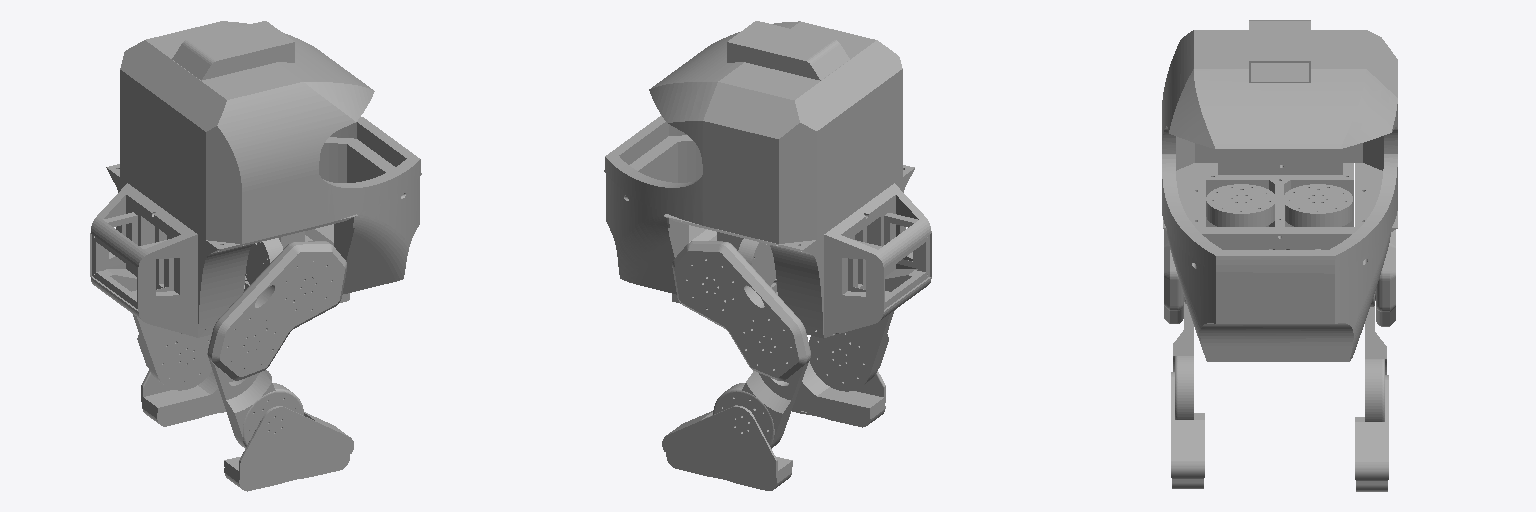
URDF robot description (bdx):
<?xml version="1.0" ?>
<robot name="bdx">
  <material name="silver">
    <color rgba="0.700 0.700 0.700 1.000"/>
  </material>
  <link name="trunk">
    <inertial>
      <origin xyz="0 0 0" rpy="0 0 0" />
      <mass value="1e-9" />
      <inertia ixx="0" ixy="0" ixz="0" iyy="0" iyz="0" izz="0" />
    </inertial>
  </link>
  <joint name="trunk_frame" type="fixed">
    <origin xyz="-0.035 0 0.26943" rpy="0 0 0" />
    <parent link="pelvis" />
    <child link="trunk" />
    <axis xyz="0 0 0"/>
  </joint>
  <link name="imu_link">
    <inertial>
      <origin xyz="0 0 0" rpy="0 0 0"/>
      <mass value="0.001"/>
      <inertia ixx="0.0001" ixy="0" ixz="0" iyy="0.0001" iyz="0" izz="0.0001"/>
    </inertial>
    <visual>
      <origin xyz="0 0 0" rpy="0 0 0"/>
      <geometry>
        <box size="0.01 0.01 0.01"/>
      </geometry>
      <material name="silver"/>
    </visual>
  </link>
  <joint name="imu_joint" type="fixed">
    <parent link="trunk"/>
    <child link="imu_link"/>
    <origin xyz="0 0 0" rpy="0 0 0"/>
  </joint>
  <joint name="left_hip_yaw" type="revolute">
    <origin rpy="0 0 0" xyz="-0.033111 0.046658 0.363959"/>
    <parent link="pelvis"/>
    <child link="left_hip_rotation"/>
    <axis xyz="-0.0 0.0 -1.0"/>
    <limit lower="-0.7853982" upper="0.7853982" effort="23.7" velocity="30"/>
  </joint>
  <joint name="left_hip_roll" type="revolute">
    <origin rpy="0 0 0" xyz="-0.0073 0.00275 -0.076"/>
    <parent link="left_hip_rotation"/>
    <child link="left_hip"/>
    <axis xyz="1.0 -0.0 -0.0"/>
    <limit lower="-0.7853982" upper="0.7853982" effort="23.7" velocity="30"/>
  </joint>
  <joint name="left_hip_pitch" type="revolute">
    <origin rpy="0 0 0" xyz="0.017466 0.069601 0.000785"/>
    <parent link="left_hip"/>
    <child link="left_thigh"/>
    <axis xyz="0.0 1.0 0.0"/>
    <limit lower="-0.7853982" upper="0.7853982" effort="23.7" velocity="30"/>
  </joint>
  <joint name="left_knee" type="revolute">
    <origin rpy="0 0 0" xyz="-0.079306 0.0 -0.077708"/>
    <parent link="left_thigh"/>
    <child link="left_shin"/>
    <axis xyz="-0.0 -1.0 0.0"/>
    <limit lower="-0.7853982" upper="0.7853982" effort="23.7" velocity="30"/>
  </joint>
  <joint name="left_ankle" type="revolute">
    <origin rpy="0 0 0" xyz="0.045 -0.0152 -0.13"/>
    <parent link="left_shin"/>
    <child link="left_foot_link"/>
    <axis xyz="0.0 1.0 -0.0"/>
    <limit lower="-0.7853982" upper="0.7853982" effort="23.7" velocity="30"/>
  </joint>
  <joint name="right_hip_yaw" type="revolute">
    <origin rpy="0 0 0" xyz="-0.033111 -0.046658 0.363959"/>
    <parent link="pelvis"/>
    <child link="right_hip_rotation"/>
    <axis xyz="-0.0 -0.0 -1.0"/>
    <limit lower="-0.7853982" upper="0.7853982" effort="23.7" velocity="30"/>
  </joint>
  <joint name="right_hip_roll" type="revolute">
    <origin rpy="0 0 0" xyz="-0.0073 -0.00275 -0.076"/>
    <parent link="right_hip_rotation"/>
    <child link="right_hip"/>
    <axis xyz="1.0 -0.0 -0.0"/>
    <limit lower="-0.7853982" upper="0.7853982" effort="23.7" velocity="30"/>
  </joint>
  <joint name="right_hip_pitch" type="revolute">
    <origin rpy="0 0 0" xyz="0.017466 -0.069601 0.000785"/>
    <parent link="right_hip"/>
    <child link="right_thigh"/>
    <axis xyz="-0.0 -1.0 0.0"/>
    <limit lower="-0.7853982" upper="0.7853982" effort="23.7" velocity="30"/>
  </joint>
  <joint name="right_knee" type="revolute">
    <origin rpy="0 0 0" xyz="-0.079306 0.0 -0.077708"/>
    <parent link="right_thigh"/>
    <child link="right_shin"/>
    <axis xyz="0.0 1.0 -0.0"/>
    <limit lower="-0.7853982" upper="0.7853982" effort="23.7" velocity="30"/>
  </joint>
  <joint name="right_ankle" type="revolute">
    <origin rpy="0 0 0" xyz="0.045 0.0152 -0.13"/>
    <parent link="right_shin"/>
    <child link="right_foot_link"/>
    <axis xyz="-0.0 -1.0 0.0"/>
    <limit lower="-0.7853982" upper="0.7853982" effort="23.7" velocity="30"/>
  </joint>
  <link name="pelvis">
    <inertial>
      <origin rpy="0 0 0" xyz="-0.053755951684186565 0.0011833805784402802 0.3419474505132109"/>
      <mass value="5.713"/>
      <inertia ixx="0.201691" ixy="-0.002118" ixz="0.016433" iyy="0.431684" iyz="-0.001502" izz="0.371809"/>
    </inertial>
    <visual>
      <origin rpy="0 0 0" xyz="0 0 0"/>
      <geometry>
        <mesh filename="meshes/pelvis.stl" scale="0.001 0.001 0.001"/>
      </geometry>
      <material name="silver"/>
    </visual>
    <collision>
      <origin rpy="0 0 0" xyz="0 0 0"/>
      <geometry>
        <mesh filename="meshes/pelvis.stl" scale="0.001 0.001 0.001"/>
      </geometry>
    </collision>
  </link>
  <link name="left_foot">
    <inertial>
      <origin xyz="0 0 0" rpy="0 0 0" />
      <mass value="1e-9" />
      <inertia ixx="0" ixy="0" ixz="0" iyy="0" iyz="0" izz="0" />
    </inertial>
  </link>
  <joint name="left_foot_frame" type="fixed">
      <origin xyz="0.025 0.0 -0.0785" rpy="0 0 0" />
      <parent link="left_foot_link" />
      <child link="left_foot" />
      <axis xyz="0 0 0"/>
  </joint>
  <link name="left_foot_link">
    <inertial>
      <origin rpy="0 0 0" xyz="0.03176454302608206 0.007933373772940469 -0.042151517495486915"/>
      <mass value="0.678"/>
      <inertia ixx="0.003343" ixy="0.000338" ixz="0.000572" iyy="0.010216" iyz="-0.000559" izz="0.008414"/>
    </inertial>
    <visual>
      <origin rpy="0 0 0" xyz="0.057251 -0.103809 -0.081036"/>
      <geometry>
        <mesh filename="meshes/left_foot.stl" scale="0.001 0.001 0.001"/>
      </geometry>
      <material name="silver"/>
    </visual>
    <collision>
      <origin rpy="0 0 0" xyz="0.057251 -0.103809 -0.081036"/>
      <geometry>
        <mesh filename="meshes/left_foot.stl" scale="0.001 0.001 0.001"/>
      </geometry>
    </collision>
  </link>
  <link name="left_foot_force_sensor">
    <inertial>
      <origin xyz="0 0 0" rpy="0 0 0"/>
      <mass value="0.001"/>
      <inertia ixx="0.0001" ixy="0" ixz="0" iyy="0.0001" iyz="0" izz="0.0001"/>
    </inertial>
    <visual>
      <origin xyz="0 0 0" rpy="0 0 0"/>
      <geometry>
        <box size="0.01 0.01 0.001"/>
      </geometry>
      <material name="silver"/>
    </visual>
  </link>
  <joint name="left_foot_force_sensor_joint" type="fixed">
    <parent link="left_foot"/>
    <child link="left_foot_force_sensor"/>
    <origin xyz="0 0 -0.001" rpy="0 0 0"/>
  </joint>
  <link name="left_shin">
    <inertial>
      <origin rpy="0 0 0" xyz="0.022294583259108075 -0.014936697575107835 -0.09005879619606566"/>
      <mass value="0.633"/>
      <inertia ixx="0.008877" ixy="0.000288" ixz="0.002995" iyy="0.011732" iyz="-0.000503" izz="0.003534"/>
    </inertial>
    <visual>
      <origin rpy="0 0 0" xyz="0.102251 -0.119009 -0.211036"/>
      <geometry>
        <mesh filename="meshes/left_shin.stl" scale="0.001 0.001 0.001"/>
      </geometry>
      <material name="silver"/>
    </visual>
    <collision>
      <origin rpy="0 0 0" xyz="0.102251 -0.119009 -0.211036"/>
      <geometry>
        <mesh filename="meshes/left_shin.stl" scale="0.001 0.001 0.001"/>
      </geometry>
    </collision>
  </link>
  <link name="left_thigh">
    <inertial>
      <origin rpy="0 0 0" xyz="-0.03410869713640875 0.02677272953598611 -0.034446694656980914"/>
      <mass value="0.633"/>
      <inertia ixx="0.024423" ixy="-0.000254" ixz="-0.014456" iyy="0.047342" iyz="-2.5e-05" izz="0.029001"/>
    </inertial>
    <visual>
      <origin rpy="0 0 0" xyz="0.022945 -0.119009 -0.288744"/>
      <geometry>
        <mesh filename="meshes/left_thigh.stl" scale="0.001 0.001 0.001"/>
      </geometry>
      <material name="silver"/>
    </visual>
    <collision>
      <origin rpy="0 0 0" xyz="0.022945 -0.119009 -0.288744"/>
      <geometry>
        <mesh filename="meshes/left_thigh.stl" scale="0.001 0.001 0.001"/>
      </geometry>
    </collision>
  </link>
  <link name="left_hip">
    <inertial>
      <origin rpy="0 0 0" xyz="0.01891117648514914 0.023471260644046747 0.00036212347671088496"/>
      <mass value="0.633"/>
      <inertia ixx="0.001496" ixy="-4.5e-05" ixz="-4e-06" iyy="0.000508" iyz="-4e-06" izz="0.001368"/>
    </inertial>
    <visual>
      <origin rpy="0 0 0" xyz="0.040411 -0.049408 -0.287959"/>
      <geometry>
        <mesh filename="meshes/left_hip.stl" scale="0.001 0.001 0.001"/>
      </geometry>
      <material name="silver"/>
    </visual>
    <collision>
      <origin rpy="0 0 0" xyz="0.040411 -0.049408 -0.287959"/>
      <geometry>
        <mesh filename="meshes/left_hip.stl" scale="0.001 0.001 0.001"/>
      </geometry>
    </collision>
  </link>
  <link name="left_hip_rotation">
    <inertial>
      <origin rpy="0 0 0" xyz="-0.0050839710984315195 0.0030924159298773846 -0.0631042772217113"/>
      <mass value="0.633"/>
      <inertia ixx="0.005331" ixy="8e-06" ixz="-0.000134" iyy="0.004179" iyz="9.4e-05" izz="0.001979"/>
    </inertial>
    <visual>
      <origin rpy="0 0 0" xyz="0.033111 -0.046658 -0.363959"/>
      <geometry>
        <mesh filename="meshes/left_hip_rotation.stl" scale="0.001 0.001 0.001"/>
      </geometry>
      <material name="silver"/>
    </visual>
    <collision>
      <origin rpy="0 0 0" xyz="0.033111 -0.046658 -0.363959"/>
      <geometry>
        <mesh filename="meshes/left_hip_rotation.stl" scale="0.001 0.001 0.001"/>
      </geometry>
    </collision>
  </link>
  <link name="right_foot">
    <inertial>
      <origin xyz="0 0 0" rpy="0 0 0" />
      <mass value="1e-9" />
      <inertia ixx="0" ixy="0" ixz="0" iyy="0" iyz="0" izz="0" />
    </inertial>
  </link>
  <joint name="right_foot_frame" type="fixed">
      <origin xyz="0.025 0.0 -0.0785" rpy="0 0 0" />
      <parent link="right_foot_link" />
      <child link="right_foot" />
      <axis xyz="0 0 0"/>
  </joint>
  <link name="right_foot_link">
    <inertial>
      <origin rpy="0 0 0" xyz="0.03176454302608035 -0.00793337377294008 -0.042151517495486845"/>
      <mass value="0.678"/>
      <inertia ixx="0.003343" ixy="-0.000338" ixz="0.000572" iyy="0.010216" iyz="0.000559" izz="0.008414"/>
    </inertial>
    <visual>
      <origin rpy="0 0 0" xyz="0.057251 0.103809 -0.081036"/>
      <geometry>
        <mesh filename="meshes/right_foot.stl" scale="0.001 0.001 0.001"/>
      </geometry>
      <material name="silver"/>
    </visual>
    <collision>
      <origin rpy="0 0 0" xyz="0.057251 0.103809 -0.081036"/>
      <geometry>
        <mesh filename="meshes/right_foot.stl" scale="0.001 0.001 0.001"/>
      </geometry>
    </collision>
  </link>
  <link name="right_foot_force_sensor">
    <inertial>
      <origin xyz="0 0 0" rpy="0 0 0"/>
      <mass value="0.001"/>
      <inertia ixx="0.0001" ixy="0" ixz="0" iyy="0.0001" iyz="0" izz="0.0001"/>
    </inertial>
    <visual>
      <origin xyz="0 0 0" rpy="0 0 0"/>
      <geometry>
        <box size="0.01 0.01 0.001"/>
      </geometry>
      <material name="silver"/>
    </visual>
  </link>
  <joint name="right_foot_force_sensor_joint" type="fixed">
    <parent link="right_foot"/>
    <child link="right_foot_force_sensor"/>
    <origin xyz="0 0 -0.001" rpy="0 0 0"/>
  </joint>
  <link name="right_shin">
    <inertial>
      <origin rpy="0 0 0" xyz="0.022294581455755427 0.014936696596238155 -0.09005879470076929"/>
      <mass value="0.633"/>
      <inertia ixx="0.008877" ixy="-0.000288" ixz="0.002995" iyy="0.011732" iyz="0.000503" izz="0.003534"/>
    </inertial>
    <visual>
      <origin rpy="0 0 0" xyz="0.102251 0.119009 -0.211036"/>
      <geometry>
        <mesh filename="meshes/right_shin.stl" scale="0.001 0.001 0.001"/>
      </geometry>
      <material name="silver"/>
    </visual>
    <collision>
      <origin rpy="0 0 0" xyz="0.102251 0.119009 -0.211036"/>
      <geometry>
        <mesh filename="meshes/right_shin.stl" scale="0.001 0.001 0.001"/>
      </geometry>
    </collision>
  </link>
  <link name="right_thigh">
    <inertial>
      <origin rpy="0 0 0" xyz="-0.03410869899821546 -0.026772733326120124 -0.03444669565952929"/>
      <mass value="0.633"/>
      <inertia ixx="0.024423" ixy="0.000254" ixz="-0.014456" iyy="0.047342" iyz="2.5e-05" izz="0.029001"/>
    </inertial>
    <visual>
      <origin rpy="0 0 0" xyz="0.022945 0.119009 -0.288744"/>
      <geometry>
        <mesh filename="meshes/right_thigh.stl" scale="0.001 0.001 0.001"/>
      </geometry>
      <material name="silver"/>
    </visual>
    <collision>
      <origin rpy="0 0 0" xyz="0.022945 0.119009 -0.288744"/>
      <geometry>
        <mesh filename="meshes/right_thigh.stl" scale="0.001 0.001 0.001"/>
      </geometry>
    </collision>
  </link>
  <link name="right_hip">
    <inertial>
      <origin rpy="0 0 0" xyz="0.01891117648514806 -0.023471260644046442 0.00036212347671088496"/>
      <mass value="0.633"/>
      <inertia ixx="0.001496" ixy="4.5e-05" ixz="-4e-06" iyy="0.000508" iyz="4e-06" izz="0.001368"/>
    </inertial>
    <visual>
      <origin rpy="0 0 0" xyz="0.040411 0.049408 -0.287959"/>
      <geometry>
        <mesh filename="meshes/right_hip.stl" scale="0.001 0.001 0.001"/>
      </geometry>
      <material name="silver"/>
    </visual>
    <collision>
      <origin rpy="0 0 0" xyz="0.040411 0.049408 -0.287959"/>
      <geometry>
        <mesh filename="meshes/right_hip.stl" scale="0.001 0.001 0.001"/>
      </geometry>
    </collision>
  </link>
  <link name="right_hip_rotation">
    <inertial>
      <origin rpy="0 0 0" xyz="-0.005083970545589955 -0.0030924159660494083 -0.0631042786786194"/>
      <mass value="0.633"/>
      <inertia ixx="0.005331" ixy="-8e-06" ixz="-0.000134" iyy="0.004179" iyz="-9.4e-05" izz="0.001979"/>
    </inertial>
    <visual>
      <origin rpy="0 0 0" xyz="0.033111 0.046658 -0.363959"/>
      <geometry>
        <mesh filename="meshes/right_hip_rotation.stl" scale="0.001 0.001 0.001"/>
      </geometry>
      <material name="silver"/>
    </visual>
    <collision>
      <origin rpy="0 0 0" xyz="0.033111 0.046658 -0.363959"/>
      <geometry>
        <mesh filename="meshes/right_hip_rotation.stl" scale="0.001 0.001 0.001"/>
      </geometry>
    </collision>
  </link>
</robot>

--- Render facts (derived) ---
Views: 3 orthographic renders of the robot side by side, from view 1: azimuth 30°, elevation 25°; view 2: azimuth 150°, elevation 25°; view 3: azimuth 270°, elevation 25°.
Robot: bdx — 17 links, 16 joints (10 revolute, 6 fixed); root link pelvis; default pose: every joint at zero.
Links seen in each view (by area): view 1: pelvis, right_thigh, right_foot_link, right_shin, left_foot_link, left_shin, right_hip, right_hip_rotation; view 2: pelvis, left_thigh, left_foot_link, right_foot_link, left_shin, right_shin, left_hip, left_hip_rotation; view 3: pelvis, left_foot_link, right_foot_link, left_shin, right_shin, left_thigh, right_thigh.
Boxes of the visible links, x1,y1,x2,y2 form: pelvis: [90, 21, 421, 337]; right_thigh: [207, 241, 346, 380]; right_foot_link: [224, 406, 353, 491]; right_shin: [209, 329, 303, 448]; left_foot_link: [141, 341, 271, 426]; left_shin: [133, 314, 211, 390]; right_hip: [248, 247, 322, 300]; right_hip_rotation: [245, 238, 282, 284]; pelvis: [604, 21, 931, 338]; left_thigh: [672, 241, 810, 380]; left_foot_link: [662, 405, 792, 490]; right_foot_link: [784, 342, 885, 427]; left_shin: [713, 329, 808, 448]; right_shin: [809, 310, 894, 391]; left_hip: [697, 247, 773, 300]; left_hip_rotation: [738, 238, 775, 286]; pelvis: [1162, 20, 1397, 361]; left_foot_link: [1355, 375, 1388, 491]; right_foot_link: [1171, 372, 1204, 488]; left_shin: [1365, 291, 1386, 421]; right_shin: [1173, 297, 1193, 419]; left_thigh: [1376, 230, 1395, 326]; right_thigh: [1164, 229, 1183, 323].
Size in the robot's own frame: 0.4364 by 0.3084 by 0.6081 metres.
Meshes: 11 distinct files referenced, 11 mesh visuals loaded (11 binary STL).